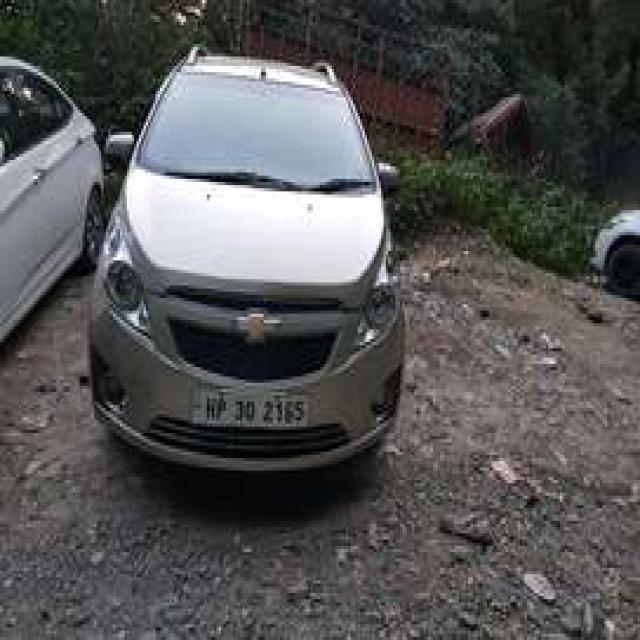licenseplate: (185, 384, 320, 446)
